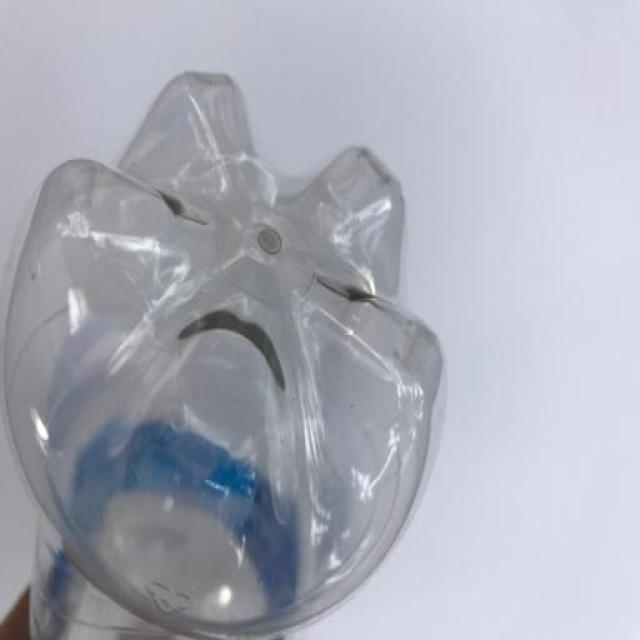plastic: (0, 65, 453, 640)
